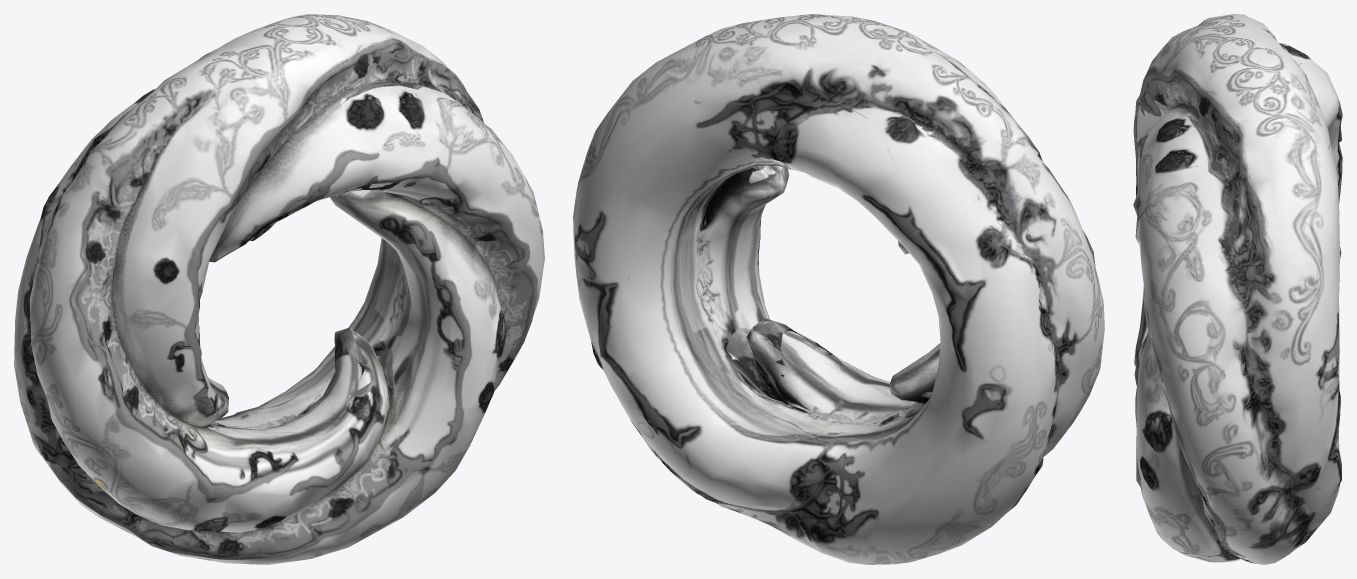
The model's file is signal-bloom-primitive-05.glb.
3 renders of one model, left to right at view 1: azimuth 30°, elevation 25°; view 2: azimuth 150°, elevation 25°; view 3: azimuth 270°, elevation 25°, orthographic. The views are drawn at different scales.
Parts seen in each view (by area): view 1: Mesh1.0; view 2: Mesh1.0; view 3: Mesh1.0.
Boxes of the visible parts, bbox=[...] form: Mesh1.0: bbox=[14, 14, 544, 564]; Mesh1.0: bbox=[573, 14, 1104, 564]; Mesh1.0: bbox=[1133, 14, 1342, 564].
Bounding box in the file's own units: 1.92 × 1.92 × 0.7226.
Materials: 1 (1 with a texture image).
